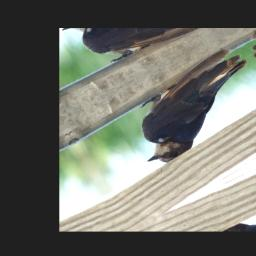Swallow: (112, 42, 256, 172)
